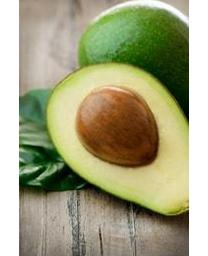avocado: (45, 62, 189, 217)
